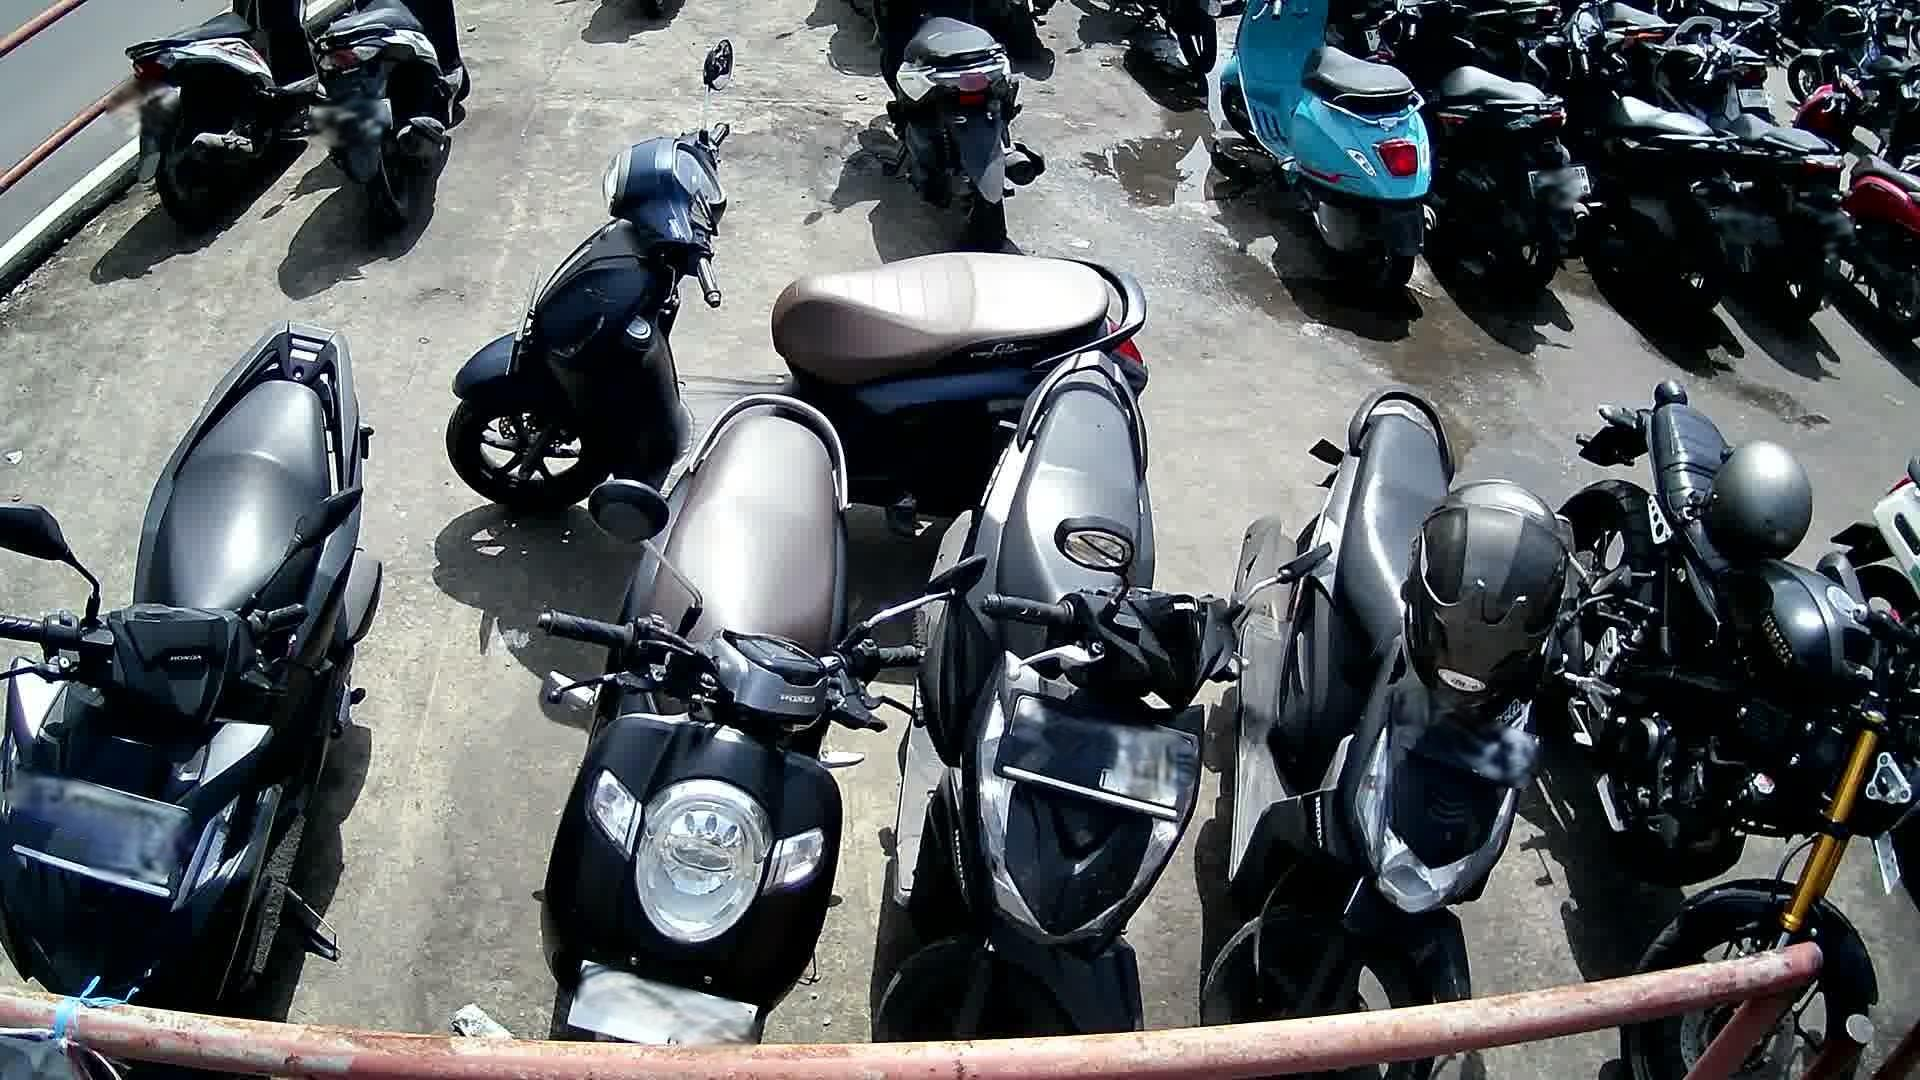motorcycle: (441, 38, 1155, 521), (875, 349, 1292, 1045), (530, 392, 959, 1066), (0, 314, 388, 1022), (1201, 387, 1574, 1080), (1558, 379, 1920, 1079), (1522, 3, 1753, 325), (1364, 0, 1597, 310), (1635, 13, 1858, 323), (1216, 0, 1443, 302), (121, 0, 313, 235), (876, 0, 1051, 252), (305, 0, 478, 236)
